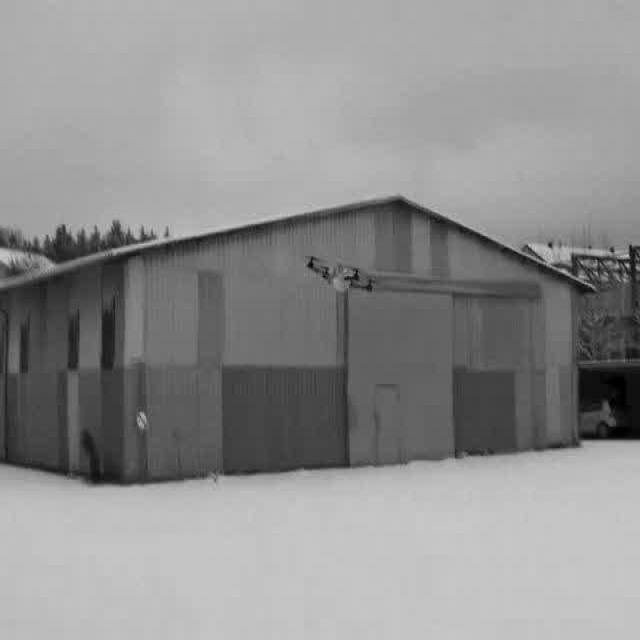drone: (304, 250, 374, 298)
